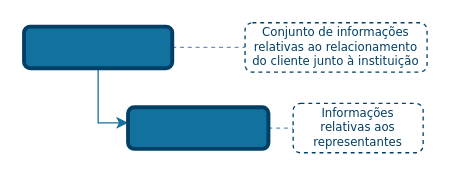
Image size: 450x176. Some labels were removed from this diagram. Each missing label, with the centre of its shape:
"Data" goes at point 97,47.
"Procurators" goes at point 197,127.
